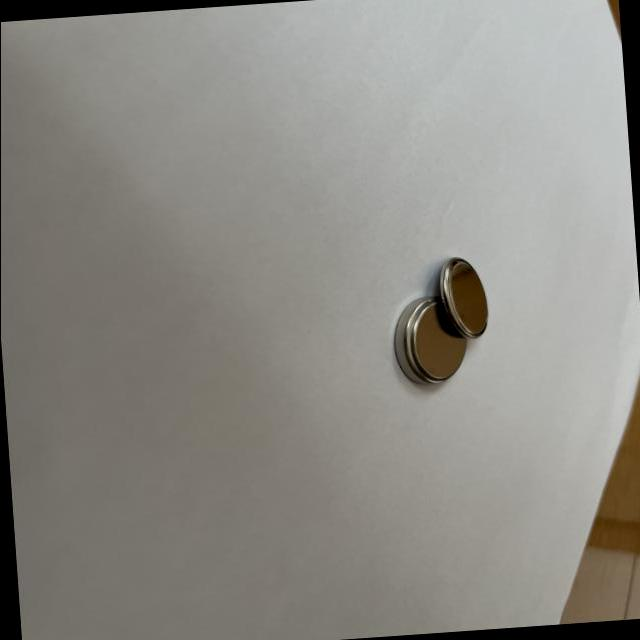COIN: (389, 293, 467, 388), (434, 254, 490, 340)
